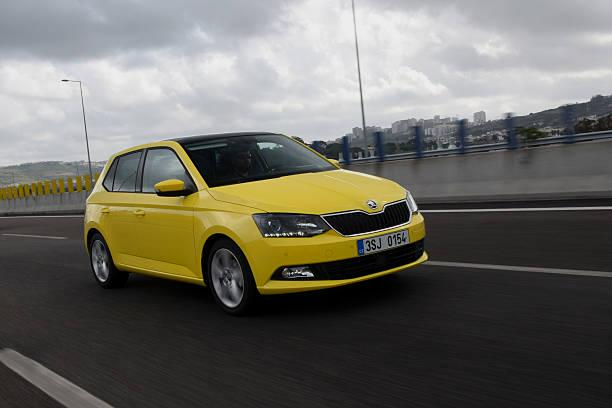skoda: (361, 194, 380, 212)
